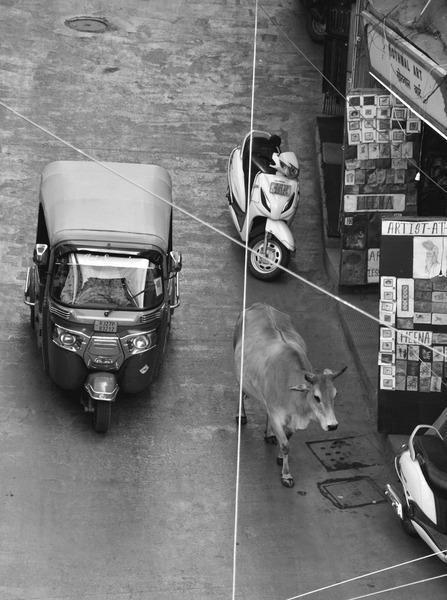keke: (23, 148, 186, 444)
